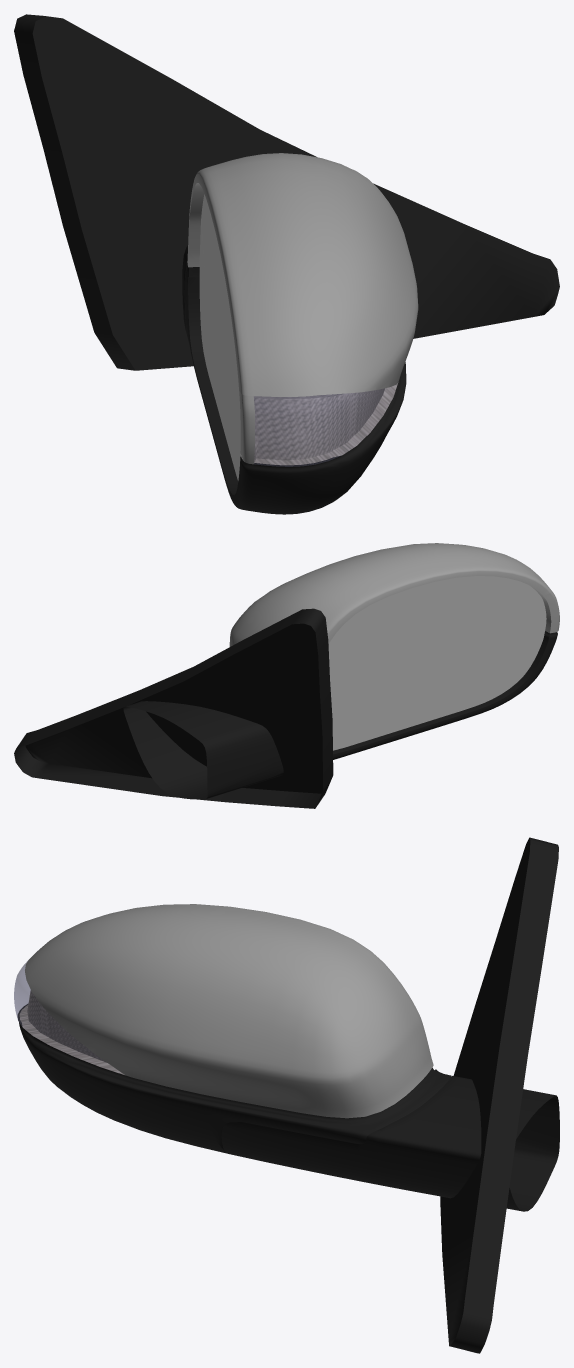
3 views of the same model, one above another, from view 1: azimuth 30°, elevation 25°; view 2: azimuth 150°, elevation 25°; view 3: azimuth 270°, elevation 25° (orthographic). The views are drawn at different scales.
Visible parts, largest first — view 1: D162_281I_R_D162_281I_R_2_D, D162_281I_R_D162_281I_R_3_DaS, D162_281I_R_D162_281I_R_5_DTaSI, D162_281I_R_1_N_D162_281I_R, D162_281I_R_D162_281I_R_4_DTaSI, D162_281I_R_D162_281I_R_3_DaS_E; view 2: D162_281I_R_D162_281I_R_2_D, D162_281I_R_D162_281I_R_4_DTaSI, D162_281I_R_D162_281I_R_3_DaS; view 3: D162_281I_R_D162_281I_R_3_DaS, D162_281I_R_D162_281I_R_2_D, D162_281I_R_D162_281I_R_5_DTaSI, D162_281I_R_1_N_D162_281I_R.
Part boxes in pixels (x1,y1,x2,y2): D162_281I_R_D162_281I_R_2_D: [14, 14, 559, 514]; D162_281I_R_D162_281I_R_3_DaS: [187, 153, 418, 464]; D162_281I_R_D162_281I_R_5_DTaSI: [254, 383, 397, 466]; D162_281I_R_1_N_D162_281I_R: [254, 383, 397, 465]; D162_281I_R_D162_281I_R_4_DTaSI: [199, 194, 241, 480]; D162_281I_R_D162_281I_R_3_DaS_E: [188, 183, 204, 267]; D162_281I_R_D162_281I_R_2_D: [14, 608, 557, 808]; D162_281I_R_D162_281I_R_4_DTaSI: [328, 576, 546, 750]; D162_281I_R_D162_281I_R_3_DaS: [229, 543, 559, 646]; D162_281I_R_D162_281I_R_3_DaS: [25, 904, 433, 1118]; D162_281I_R_D162_281I_R_2_D: [17, 837, 559, 1353]; D162_281I_R_D162_281I_R_5_DTaSI: [14, 961, 123, 1074]; D162_281I_R_1_N_D162_281I_R: [19, 990, 124, 1074].
Bounding box in the file's own units: 39.63 × 26.18 × 39.71.
